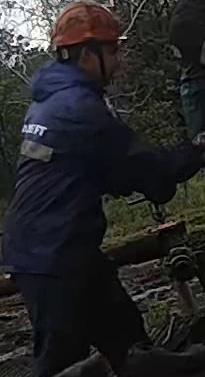gloves: (168, 132, 204, 195)
helmet: (49, 1, 123, 48)
vest: (0, 68, 112, 277)
